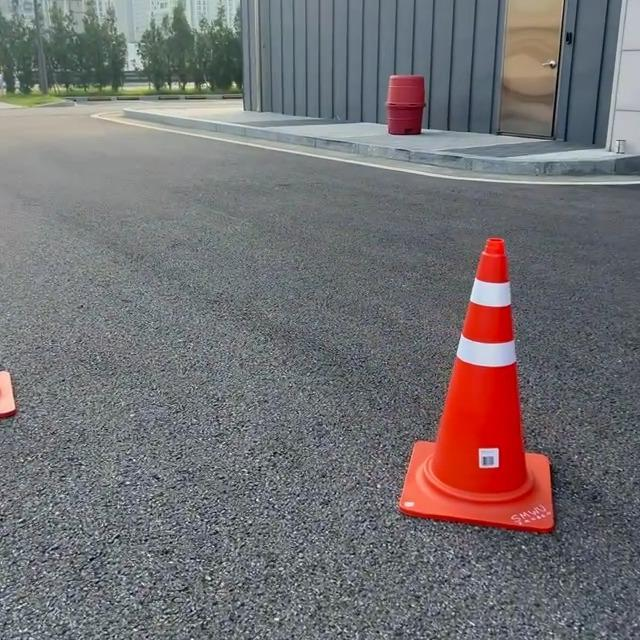fallen_object: (356, 210, 638, 640)
